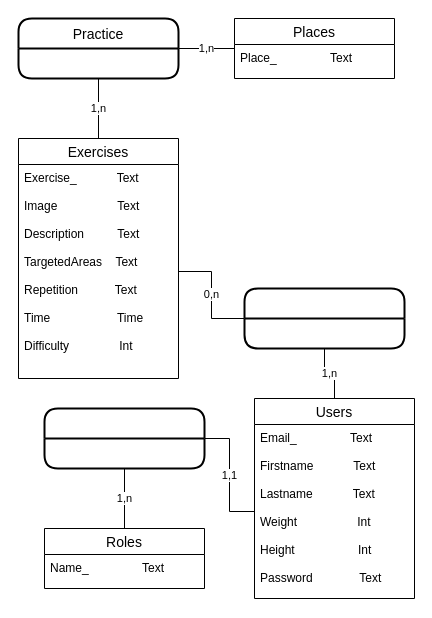
Some shapes in this 432 by 618 pixel diagram are drawn without their labels. Here are the shapes that lost their labels. From the top down, the centre of each, then its label:
At pixel 324 318: "Have".
At pixel 124 438: "Belong".
